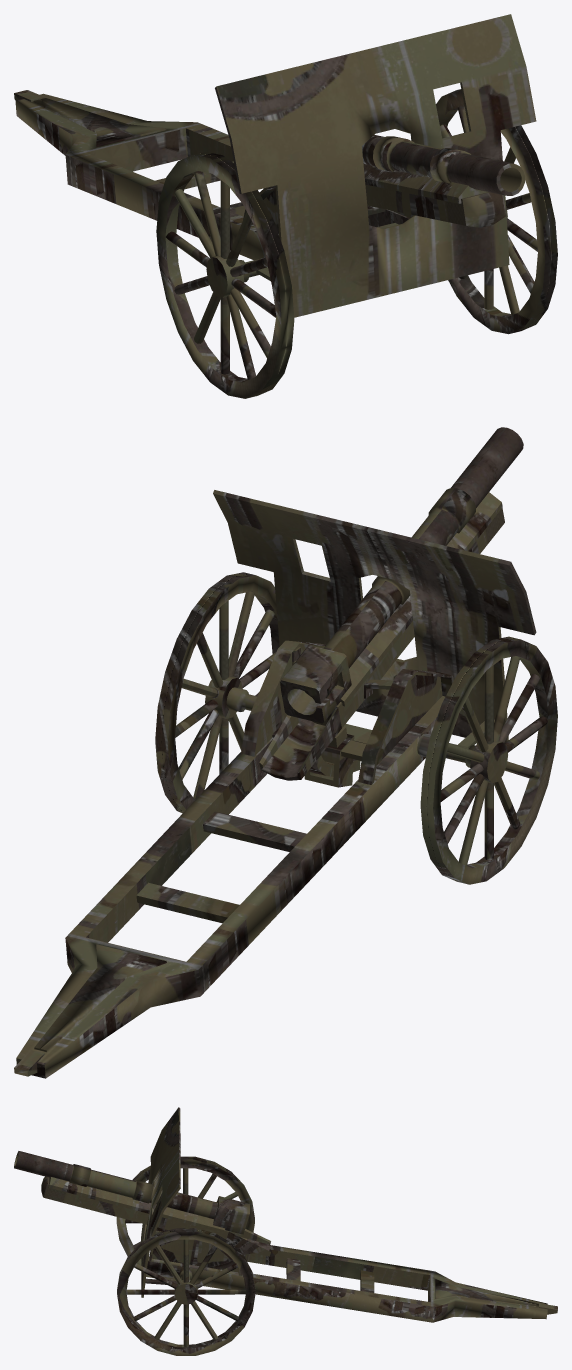
Rendered from arty3.dae.
3 renders of one model, top to bottom at view 1: azimuth 30°, elevation 25°; view 2: azimuth 150°, elevation 25°; view 3: azimuth 270°, elevation 25°, orthographic. The views are drawn at different scales.
Parts seen in each view (by area): view 1: base, wheels, gun, barrel; view 2: base, wheels, barrel, gun; view 3: base, wheels, barrel, gun.
Part boxes in pixels (box(x1,y1,x2,y2)): base: box(14, 14, 536, 317); wheels: box(156, 89, 557, 398); gun: box(363, 164, 506, 227); barrel: box(362, 135, 524, 195); base: box(14, 490, 536, 1078); wheels: box(155, 572, 557, 884); barrel: box(280, 427, 523, 723); gun: box(259, 492, 504, 780); base: box(141, 1107, 557, 1322); wheels: box(116, 1156, 255, 1355); barrel: box(14, 1151, 249, 1234); gun: box(41, 1176, 270, 1256).
Bounding box in the file's own units: 27.31 × 78.57 × 27.34.
Materials: 1 (1 with a texture image).
